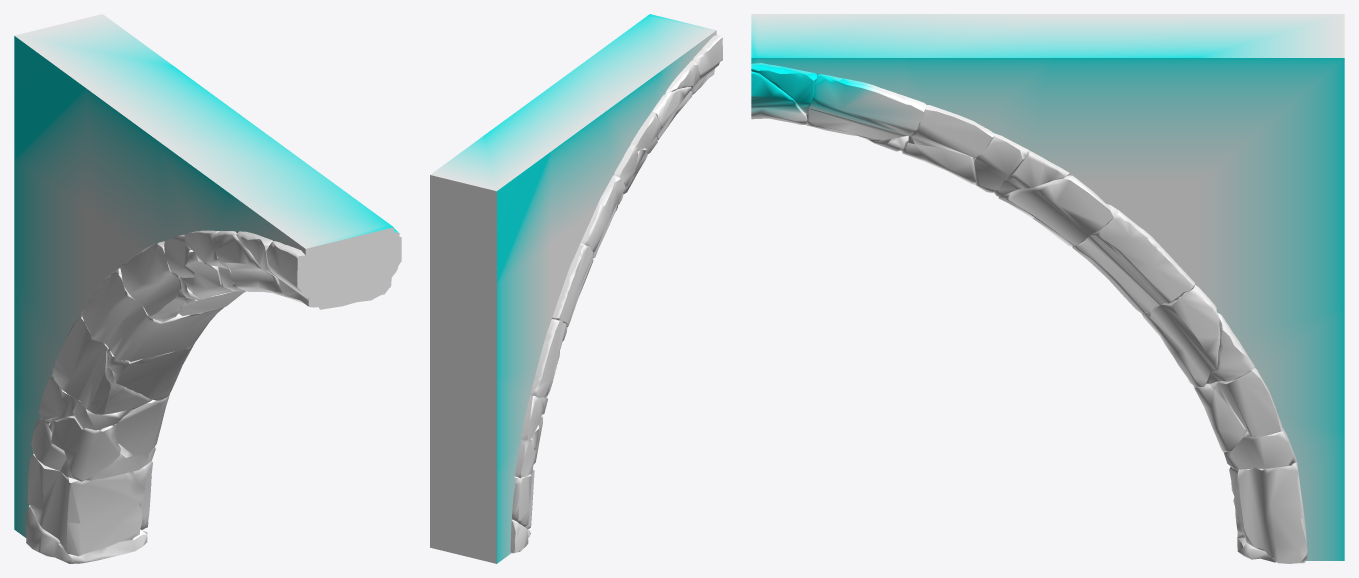
File: SM_ArchWall_OpenArch_8x4_A_Half.fbx
3 views of the same model, side by side, from view 1: azimuth 30°, elevation 25°; view 2: azimuth 150°, elevation 25°; view 3: azimuth 270°, elevation 25° (orthographic). The views are drawn at different scales.
Parts seen in each view (by area): view 1: SM_ArchWall_OpenArch_8x4_A_Half_LOD0; view 2: SM_ArchWall_OpenArch_8x4_A_Half_LOD0; view 3: SM_ArchWall_OpenArch_8x4_A_Half_LOD0.
Part boxes in pixels (x1,y1,x2,y2): SM_ArchWall_OpenArch_8x4_A_Half_LOD0: (14, 14, 401, 563); SM_ArchWall_OpenArch_8x4_A_Half_LOD0: (430, 14, 722, 563); SM_ArchWall_OpenArch_8x4_A_Half_LOD0: (751, 14, 1344, 563).
Size of the model in its own units: 58.63 by 282 by 264.
